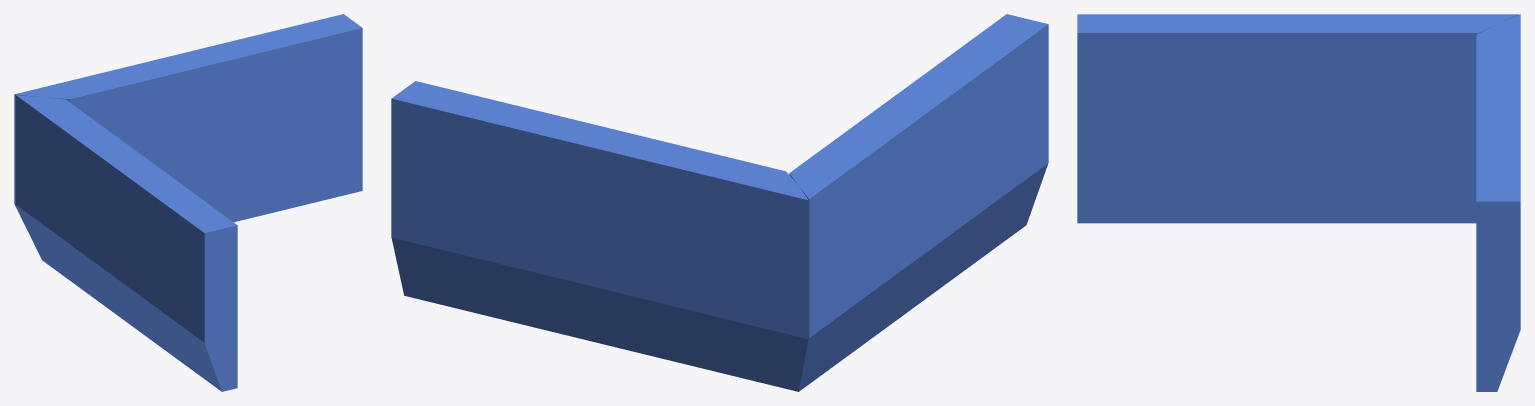
File: TopCables_Corner_Square_Outer_Collision.fbx
3 renders of one model, left to right at view 1: azimuth 30°, elevation 25°; view 2: azimuth 150°, elevation 25°; view 3: azimuth 270°, elevation 25°, orthographic. The views are drawn at different scales.
Visible parts, largest first — view 1: TopCables_Corner_Square_Outer_Collision; view 2: TopCables_Corner_Square_Outer_Collision; view 3: TopCables_Corner_Square_Outer_Collision.
Boxes of the visible parts, bbox=[...] form: TopCables_Corner_Square_Outer_Collision: bbox=[14, 14, 362, 391]; TopCables_Corner_Square_Outer_Collision: bbox=[391, 14, 1048, 391]; TopCables_Corner_Square_Outer_Collision: bbox=[1077, 14, 1520, 391].
Size of the model in its own units: 423 by 200 by 422.
